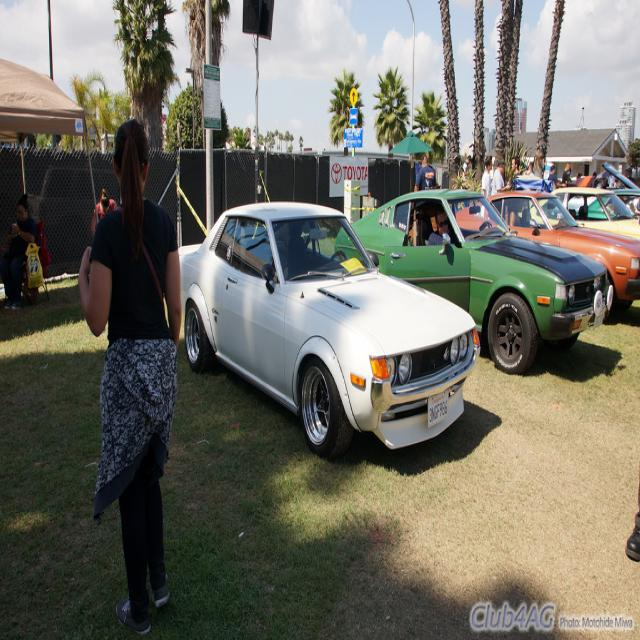Passenger Car: (178, 204, 482, 461), (406, 189, 613, 375)
Pedestrians: (79, 117, 182, 634)
